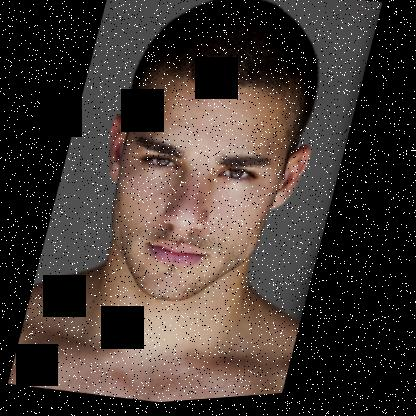Male: (70, 57, 327, 327)
